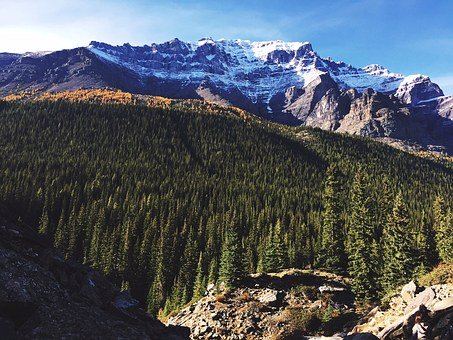forest: (5, 92, 453, 330)
mountain: (2, 38, 452, 112), (265, 66, 453, 143)
sky: (1, 3, 453, 51)
